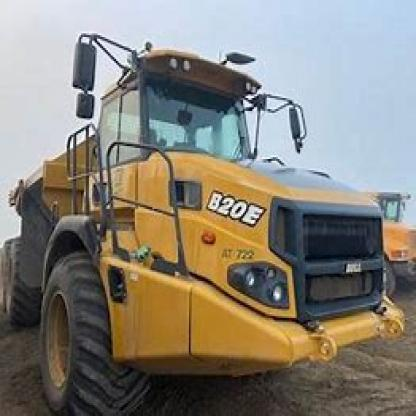dump_truck: (14, 34, 400, 412)
